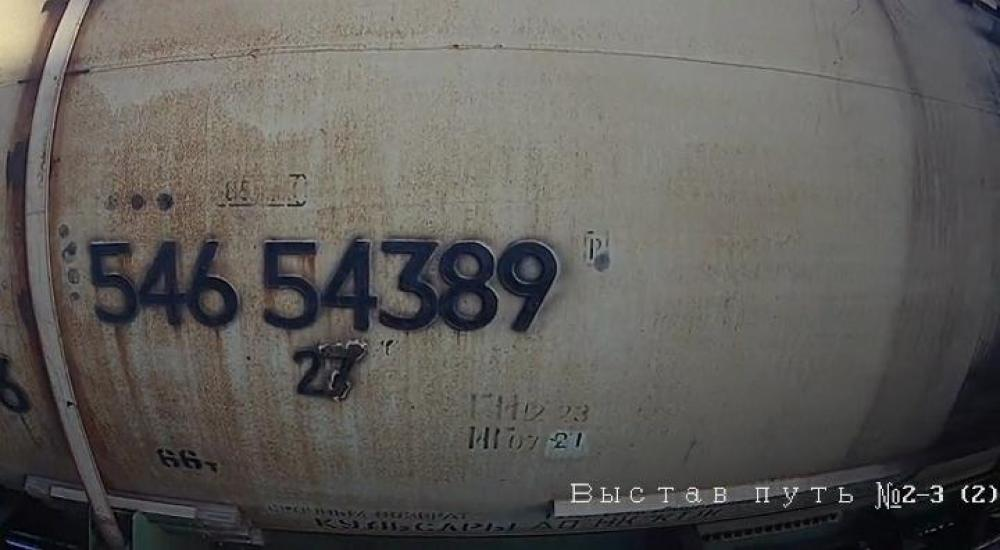Wagon-number: (80, 232, 565, 337)
